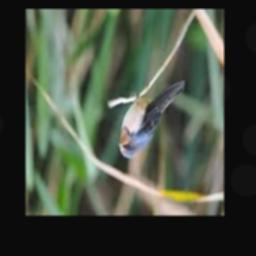Swallow: (119, 81, 187, 158)
